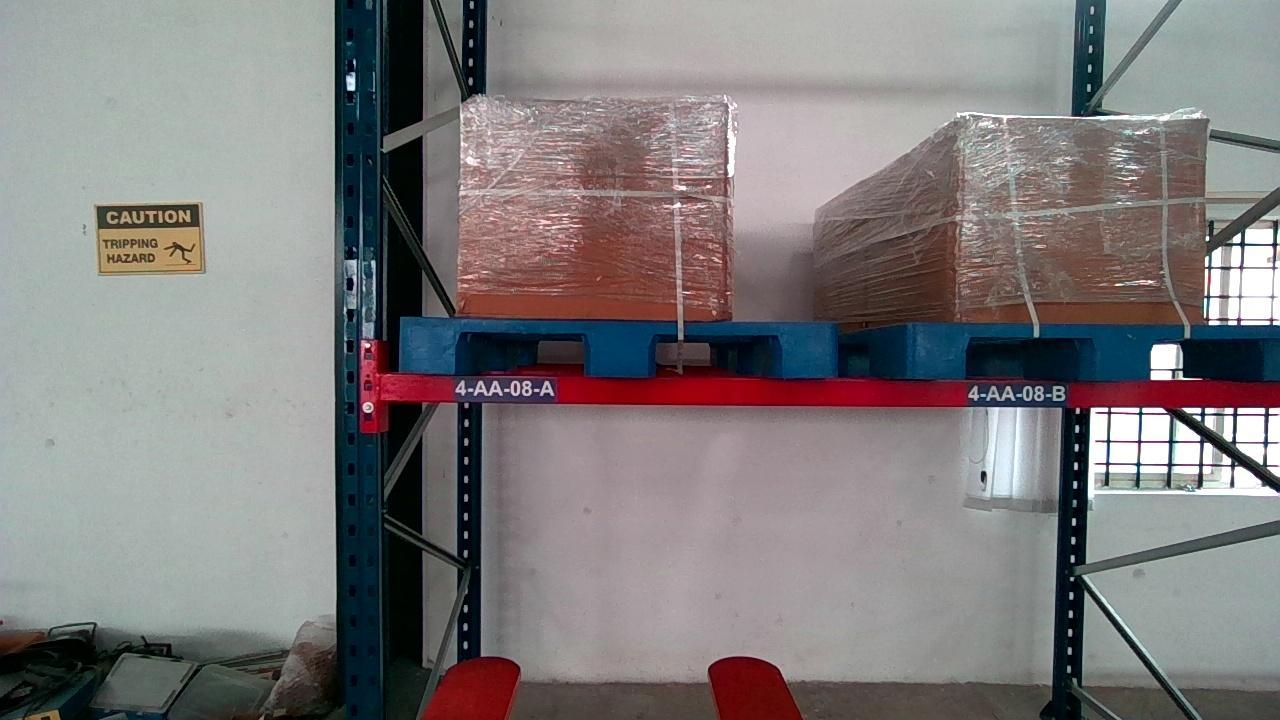h_rack: (378, 375, 1280, 406)
small_pallet: (399, 318, 839, 378), (912, 324, 1279, 380)
